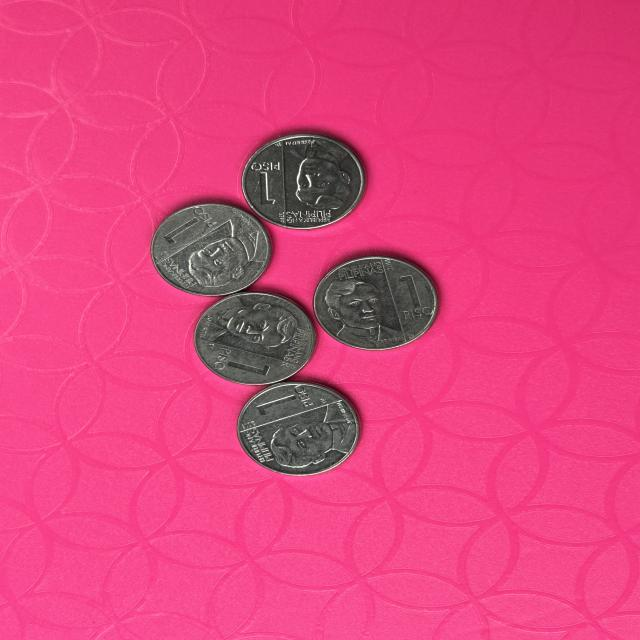1_New_Front: (388, 264, 444, 334), (204, 340, 274, 385), (156, 206, 231, 246), (248, 384, 326, 415), (242, 154, 285, 209)
